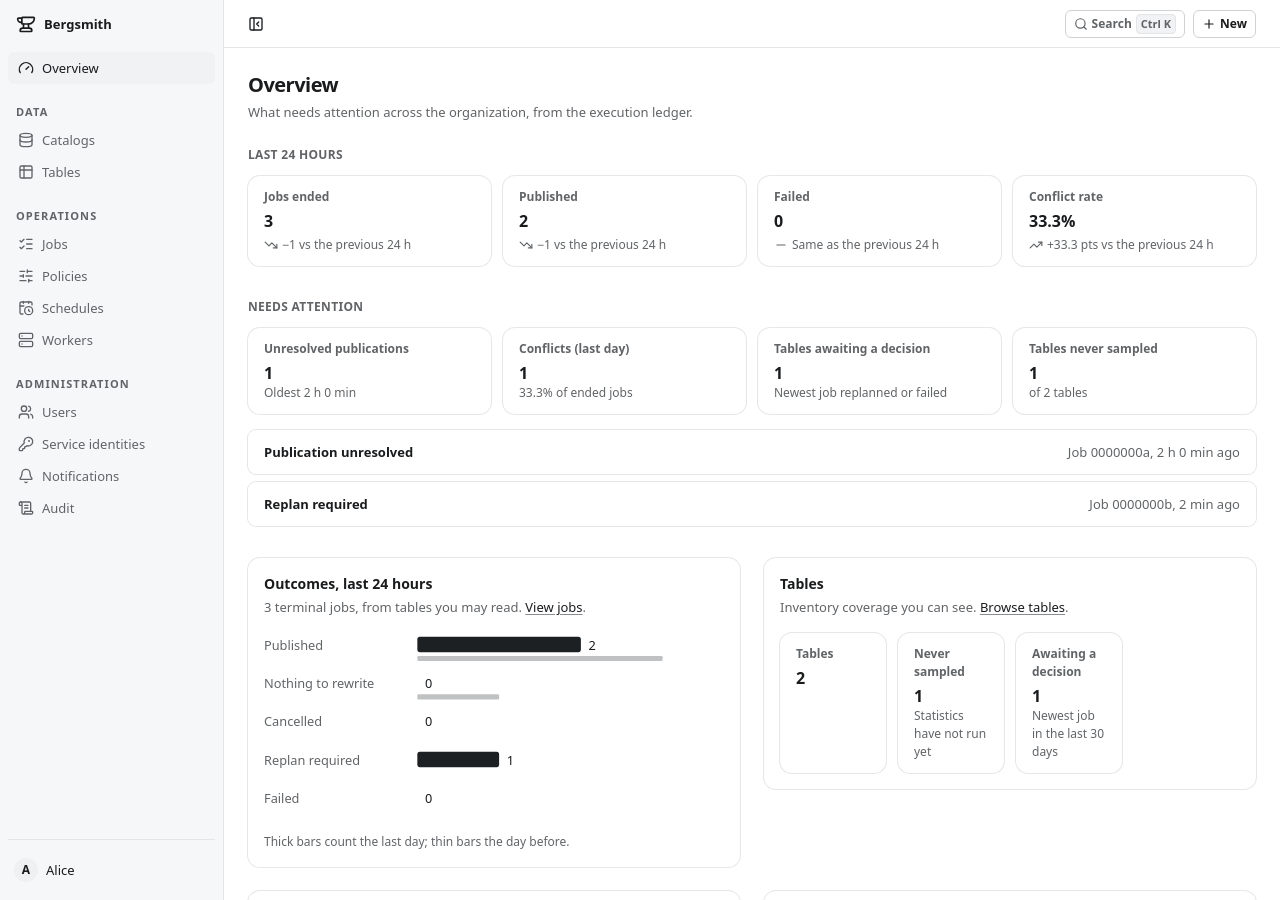
Test: offers people only to those who manage access
Check: the heading "Overview" is shown, box x1=248 y1=71 x2=338 y2=98
Type keys "{Control>}k{/Control}"
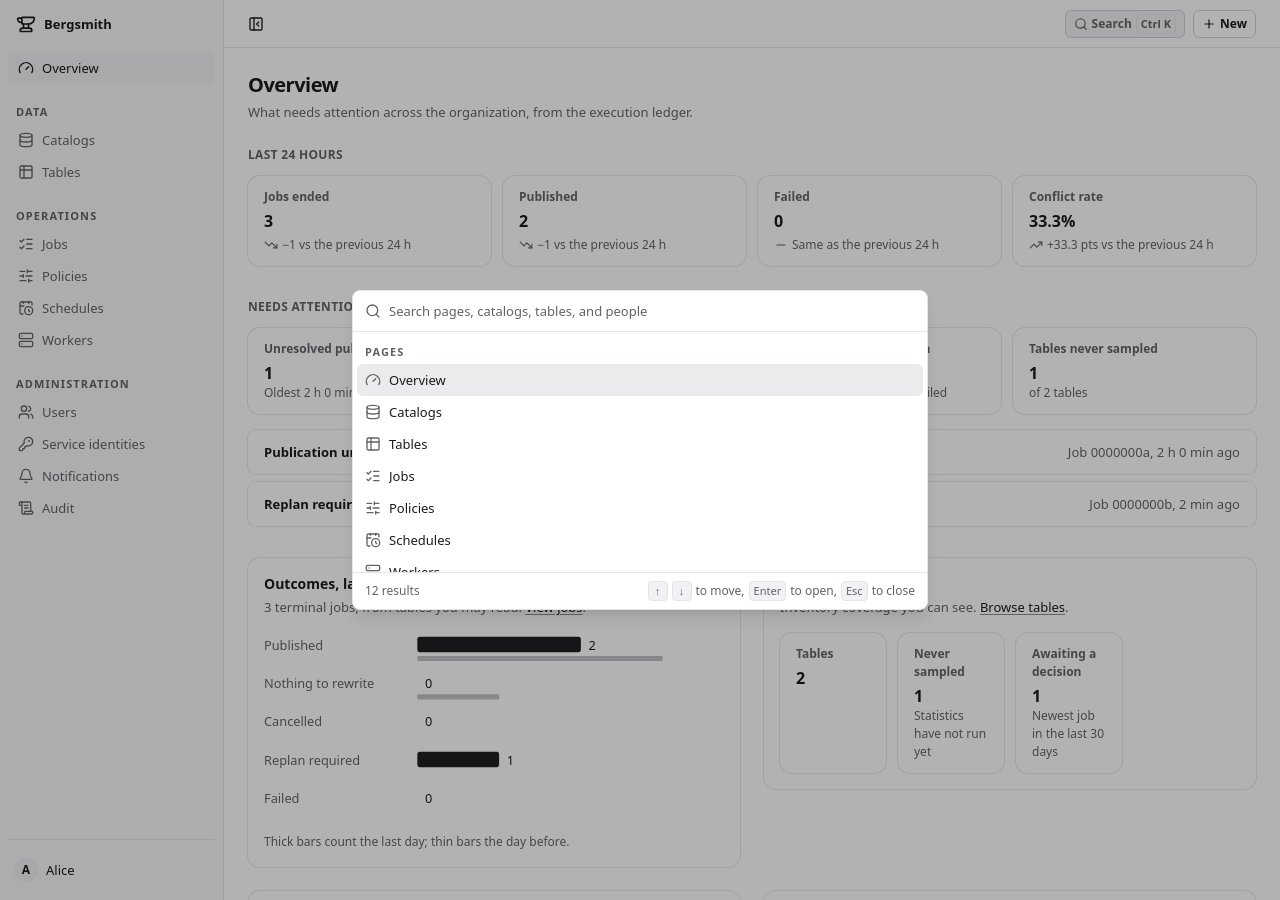
Type "ali" into the dropdown labelled "Search pages, catalogs, tables, and people" at (652, 311), box x1=389 y1=291 x2=915 y2=331
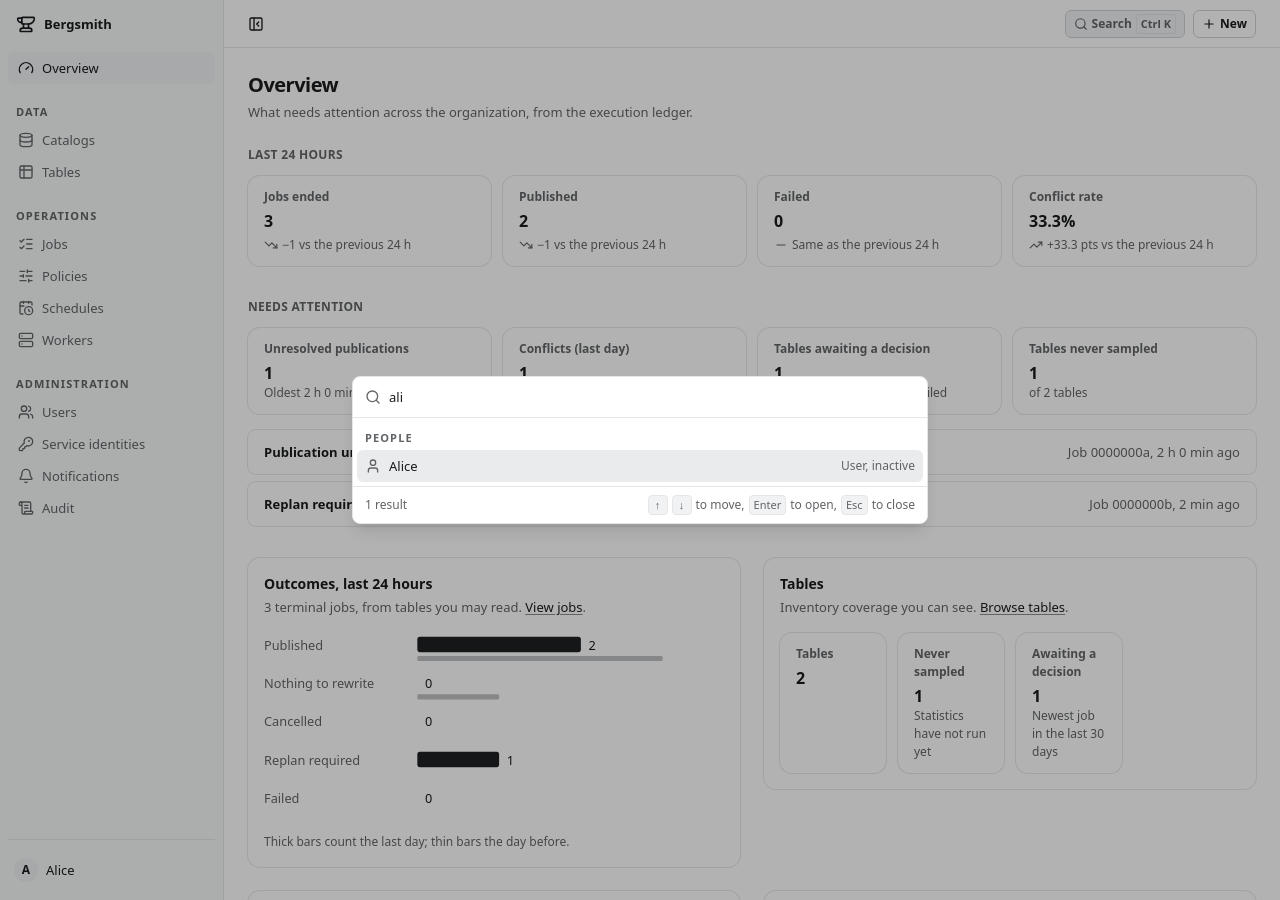
Check: the element "People" is shown, box x1=357 y1=422 x2=923 y2=482
